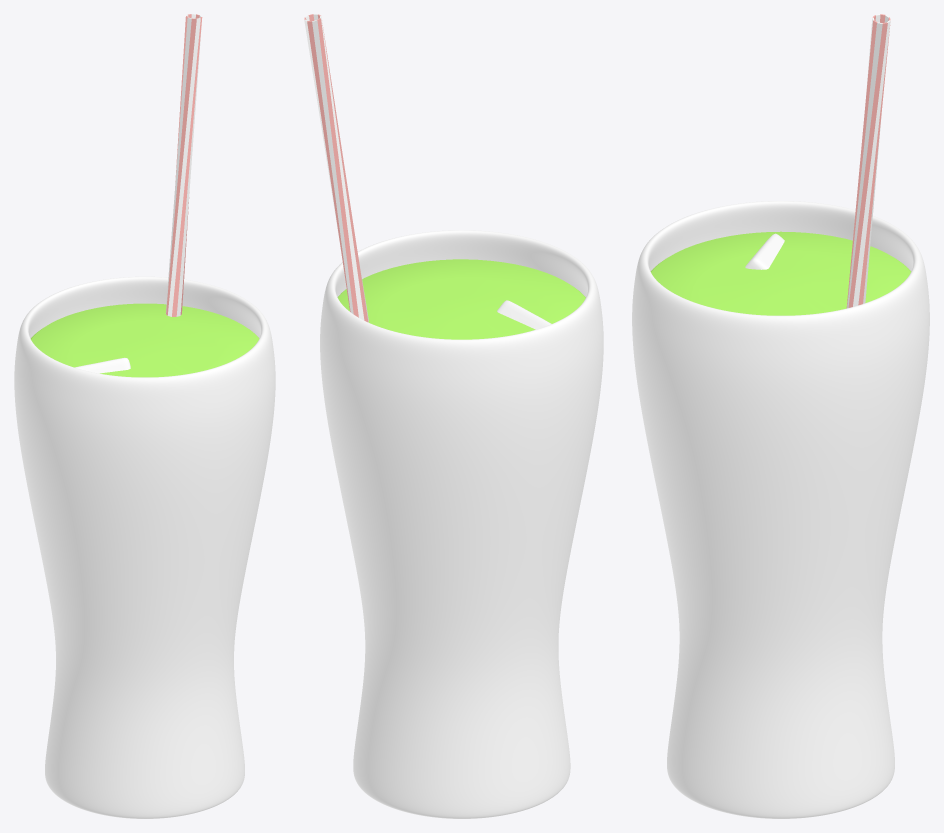
File: fizzy_drink.glb
3 renders of one model, left to right at view 1: azimuth 30°, elevation 25°; view 2: azimuth 150°, elevation 25°; view 3: azimuth 270°, elevation 25°, orthographic. The views are drawn at different scales.
Parts seen in each view (by area): view 1: Cylinder, Cylinder001, Cylinder002, Cube002; view 2: Cylinder, Cylinder001, Cylinder002, Cube002; view 3: Cylinder, Cylinder001, Cylinder002, Cube002.
Part boxes in pixels (x1,y1,x2,y2): Cylinder: [14, 276, 275, 818]; Cylinder001: [31, 303, 259, 377]; Cylinder002: [165, 14, 202, 316]; Cube002: [74, 357, 130, 373]; Cylinder: [320, 230, 603, 818]; Cylinder001: [337, 259, 585, 339]; Cylinder002: [304, 14, 368, 322]; Cube002: [497, 300, 551, 329]; Cylinder: [632, 201, 929, 818]; Cylinder001: [650, 231, 911, 315]; Cylinder002: [846, 14, 890, 308]; Cube002: [745, 233, 784, 269].
Bounding box in the file's own units: 0.0575 × 0.1718 × 0.0575.
